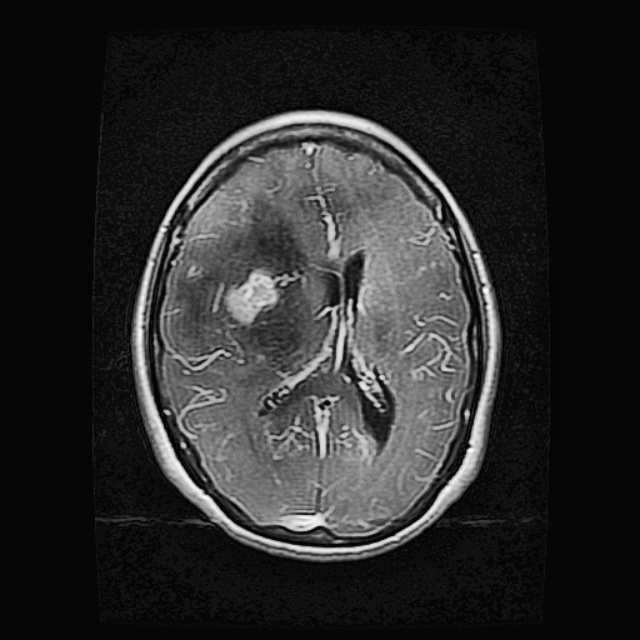Glioma: (224, 267, 279, 322)
